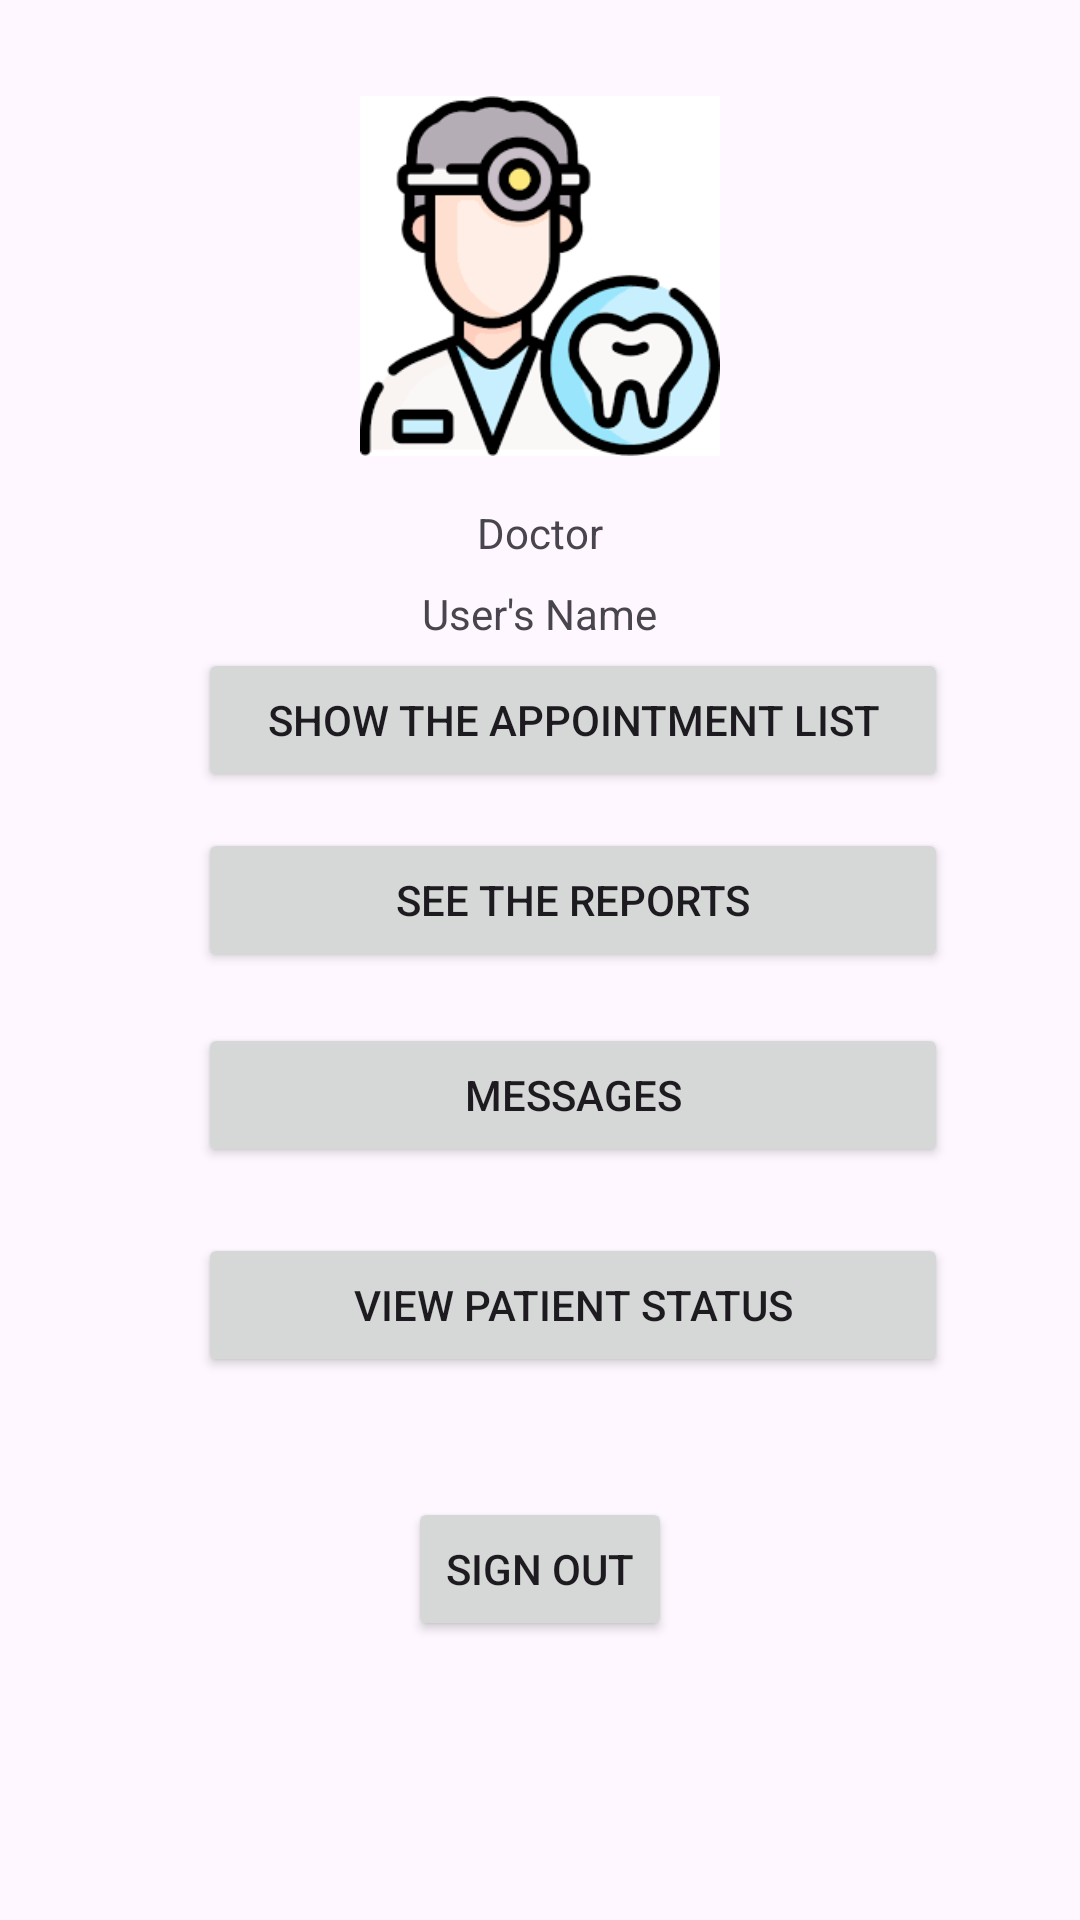

Screen size 1080 × 1920. Icon name, then its box in pixels as (x1, y1, x2, y2):
dentist: (360, 96, 720, 456)
